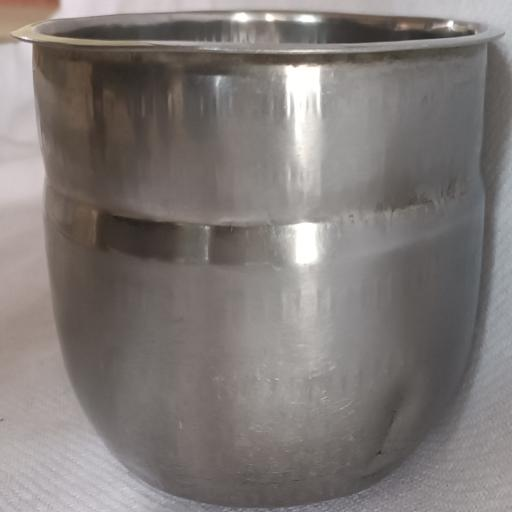vessel: (13, 11, 500, 507)
